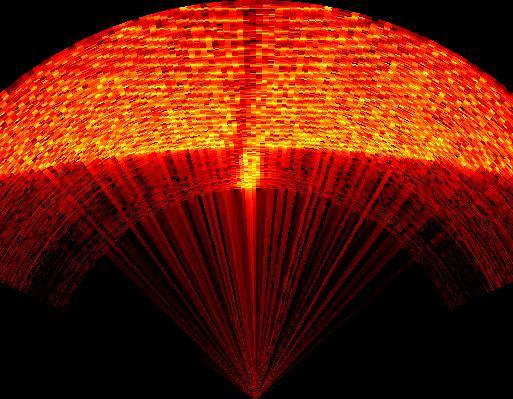pipe: (218, 2, 266, 196)
